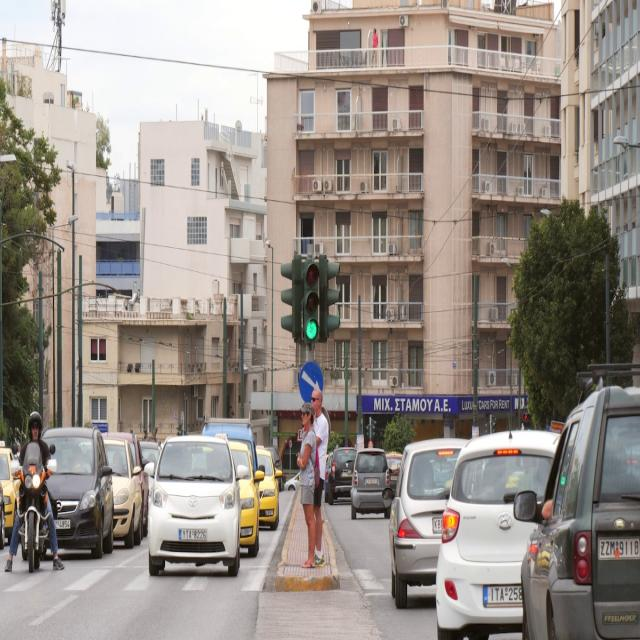car: (514, 387, 639, 639), (436, 431, 558, 639), (147, 436, 247, 575), (389, 439, 466, 607), (43, 428, 113, 558), (106, 432, 148, 535), (228, 440, 264, 557), (104, 439, 142, 548), (350, 448, 393, 519), (202, 418, 257, 471), (257, 448, 281, 530), (0, 443, 19, 543), (326, 448, 356, 504), (263, 446, 285, 491), (386, 452, 402, 495), (139, 440, 160, 466), (139, 440, 160, 464), (324, 451, 333, 502), (0, 485, 5, 549), (284, 472, 299, 490)
scooty: (11, 442, 56, 572)
traffic signal: (281, 255, 302, 342), (319, 256, 339, 343), (302, 259, 319, 343), (522, 412, 532, 428), (177, 424, 184, 435)
